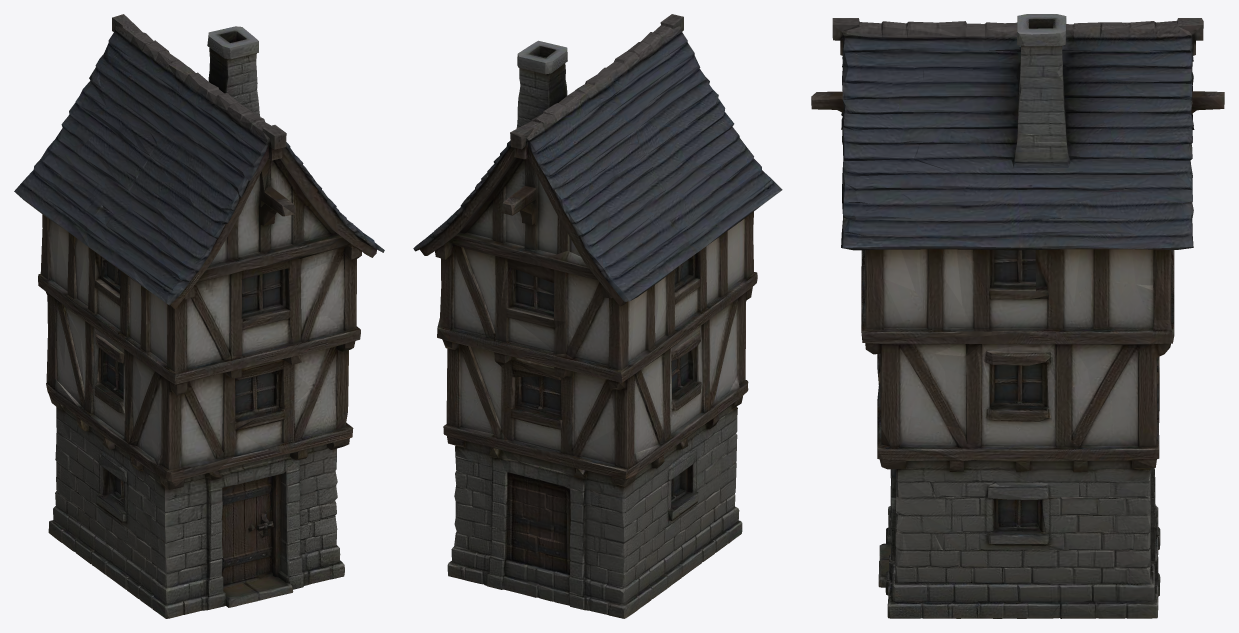
File: bld_house_npc_h_a_LOD0.glb
The picture shows the model from 3 angles, left to right: view 1: azimuth 30°, elevation 25°; view 2: azimuth 150°, elevation 25°; view 3: azimuth 270°, elevation 25°; orthographic projection. The views are drawn at different scales.
Visible parts, largest first — view 1: tripo_mesh_4450e4b1-e46a-4189-bf45-961aa8506fb2; view 2: tripo_mesh_4450e4b1-e46a-4189-bf45-961aa8506fb2; view 3: tripo_mesh_4450e4b1-e46a-4189-bf45-961aa8506fb2.
Boxes of the visible parts, box(x1,y1,x2,y2) form: tripo_mesh_4450e4b1-e46a-4189-bf45-961aa8506fb2: box(14, 14, 384, 618); tripo_mesh_4450e4b1-e46a-4189-bf45-961aa8506fb2: box(413, 14, 782, 618); tripo_mesh_4450e4b1-e46a-4189-bf45-961aa8506fb2: box(811, 14, 1224, 618).
Bounding box in the file's own units: 2.74 × 6 × 3.94.
Materials: 1 (1 with a texture image).
